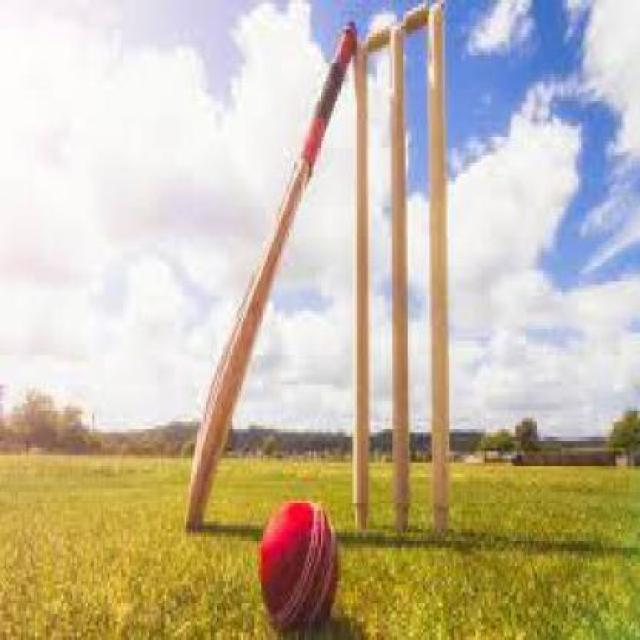Red_Ball: (239, 498, 362, 635)
